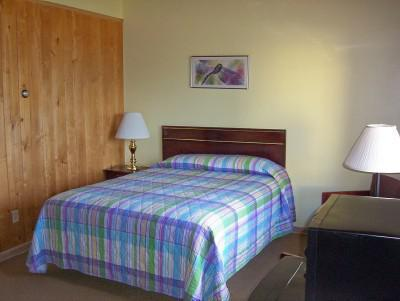Cama: (35, 160, 282, 275)
